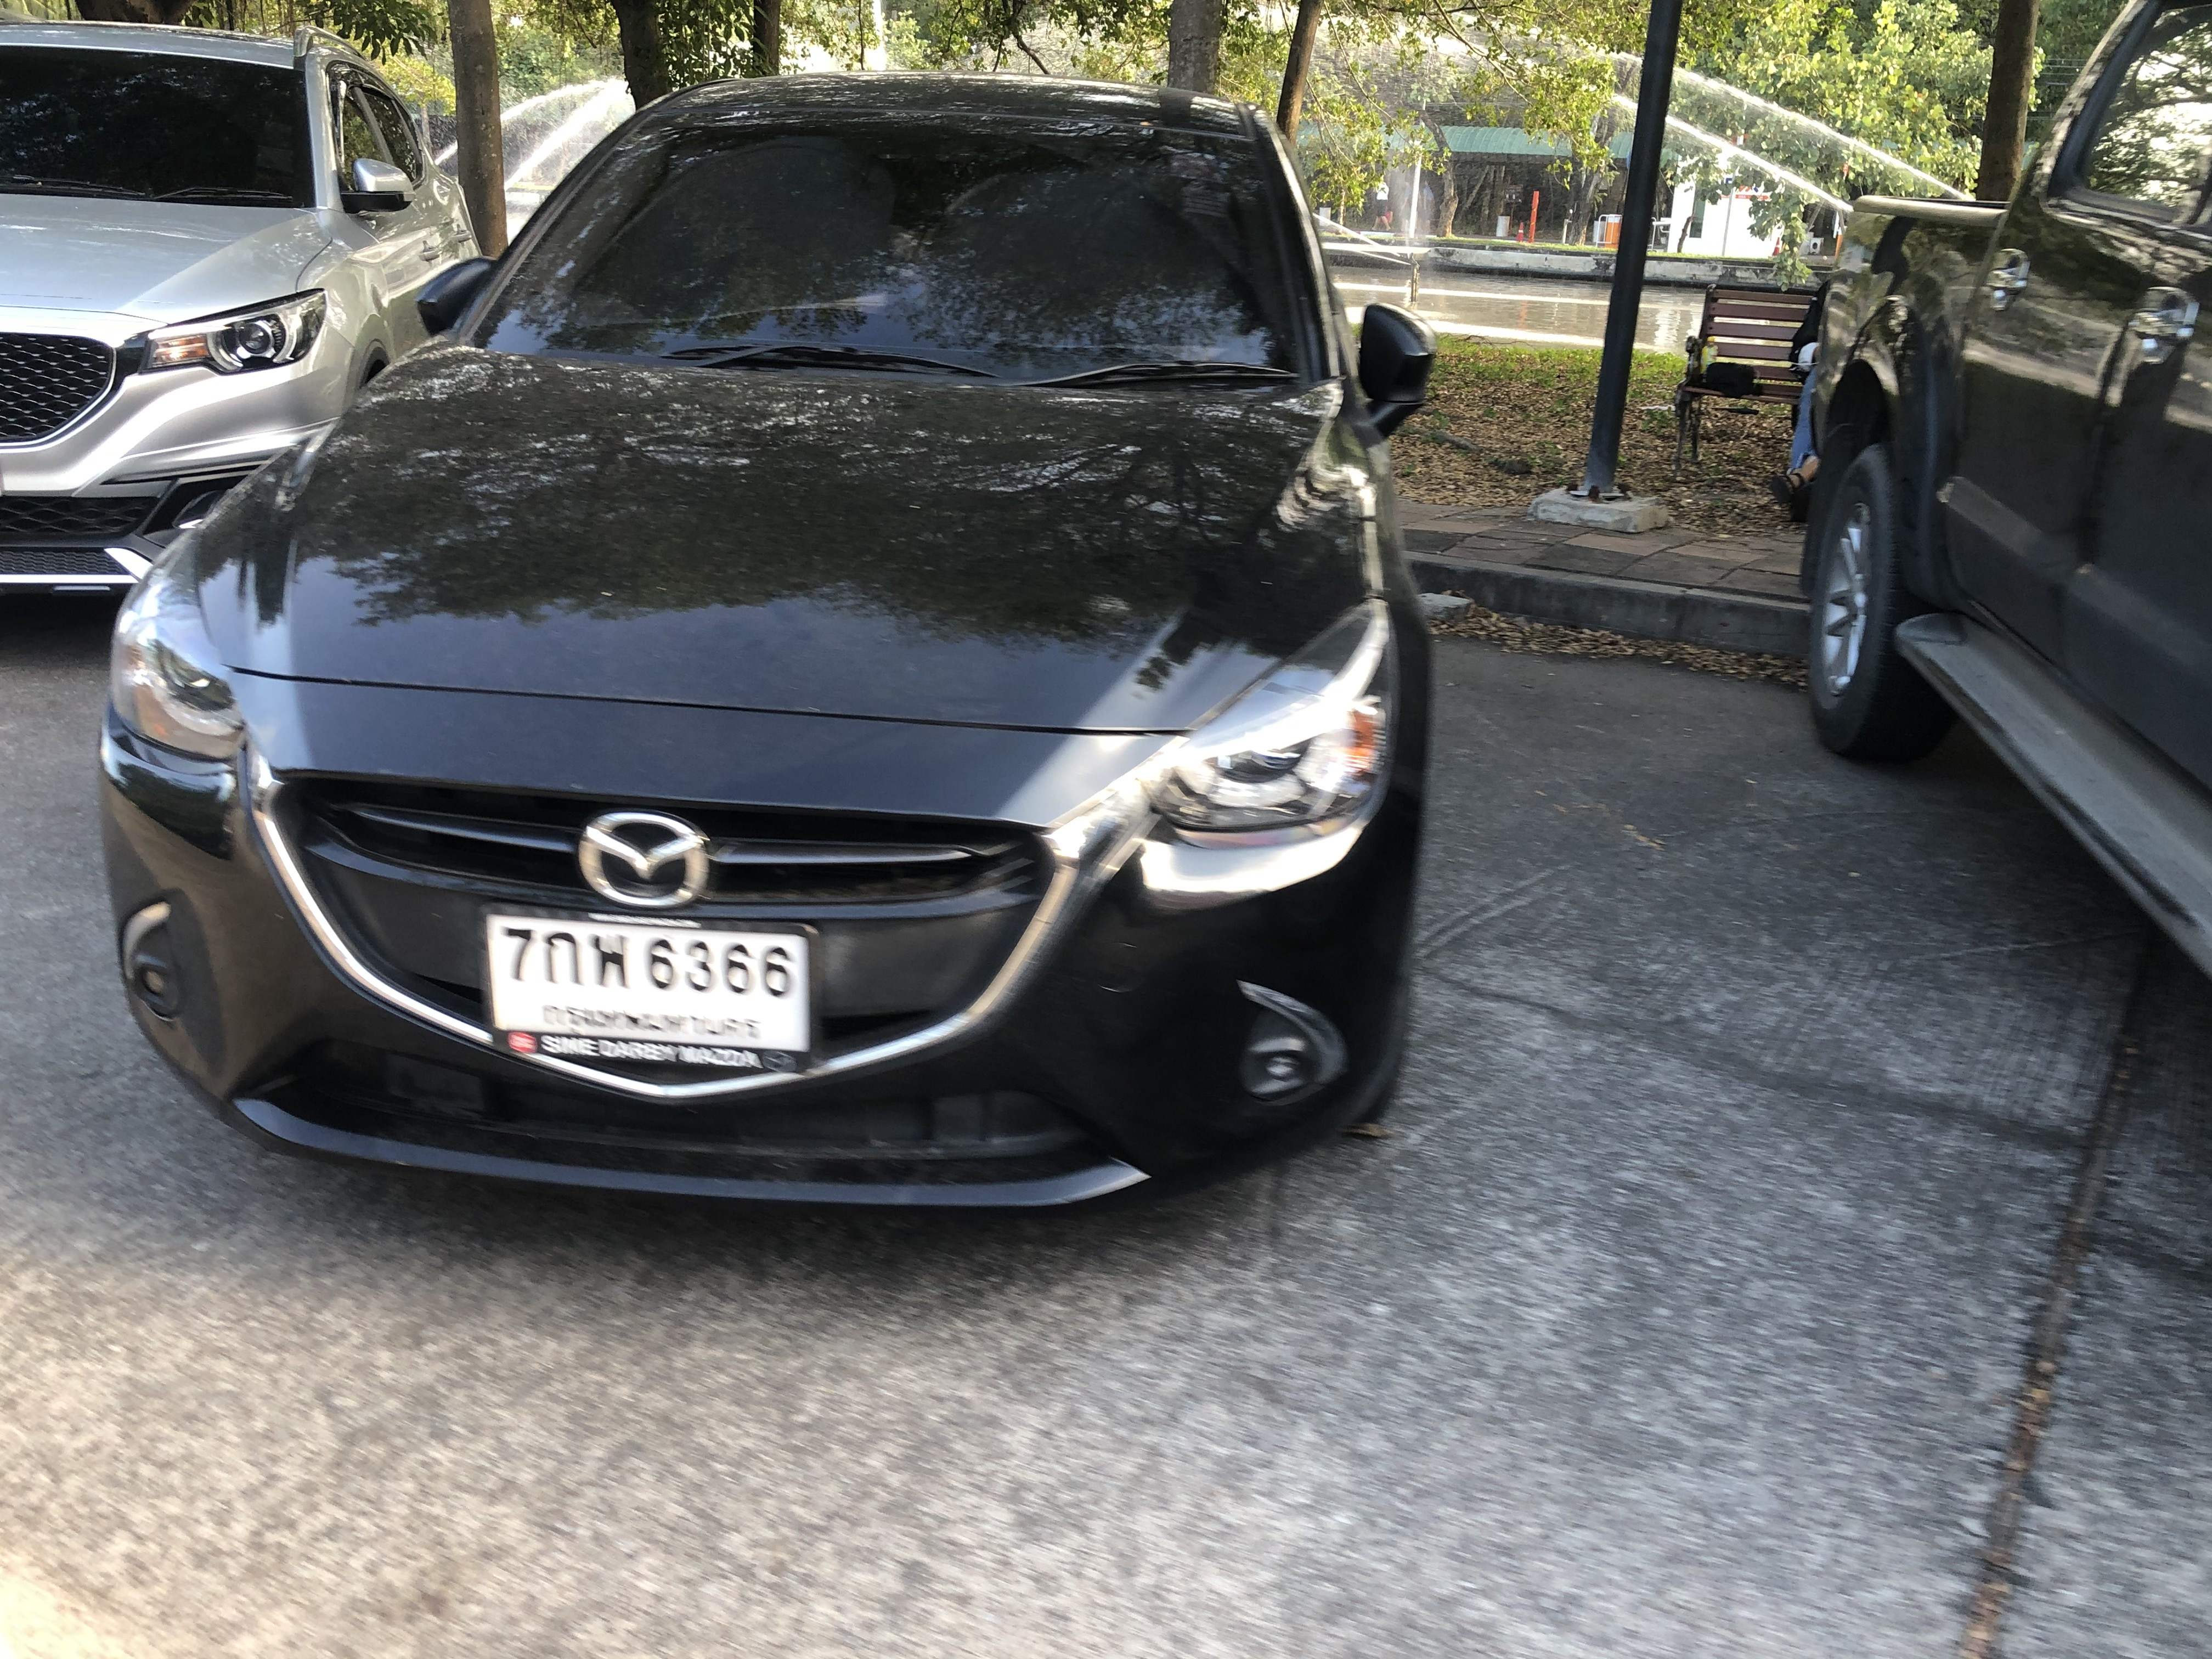in: (488, 922, 808, 1049)
out: (477, 906, 824, 1077)
